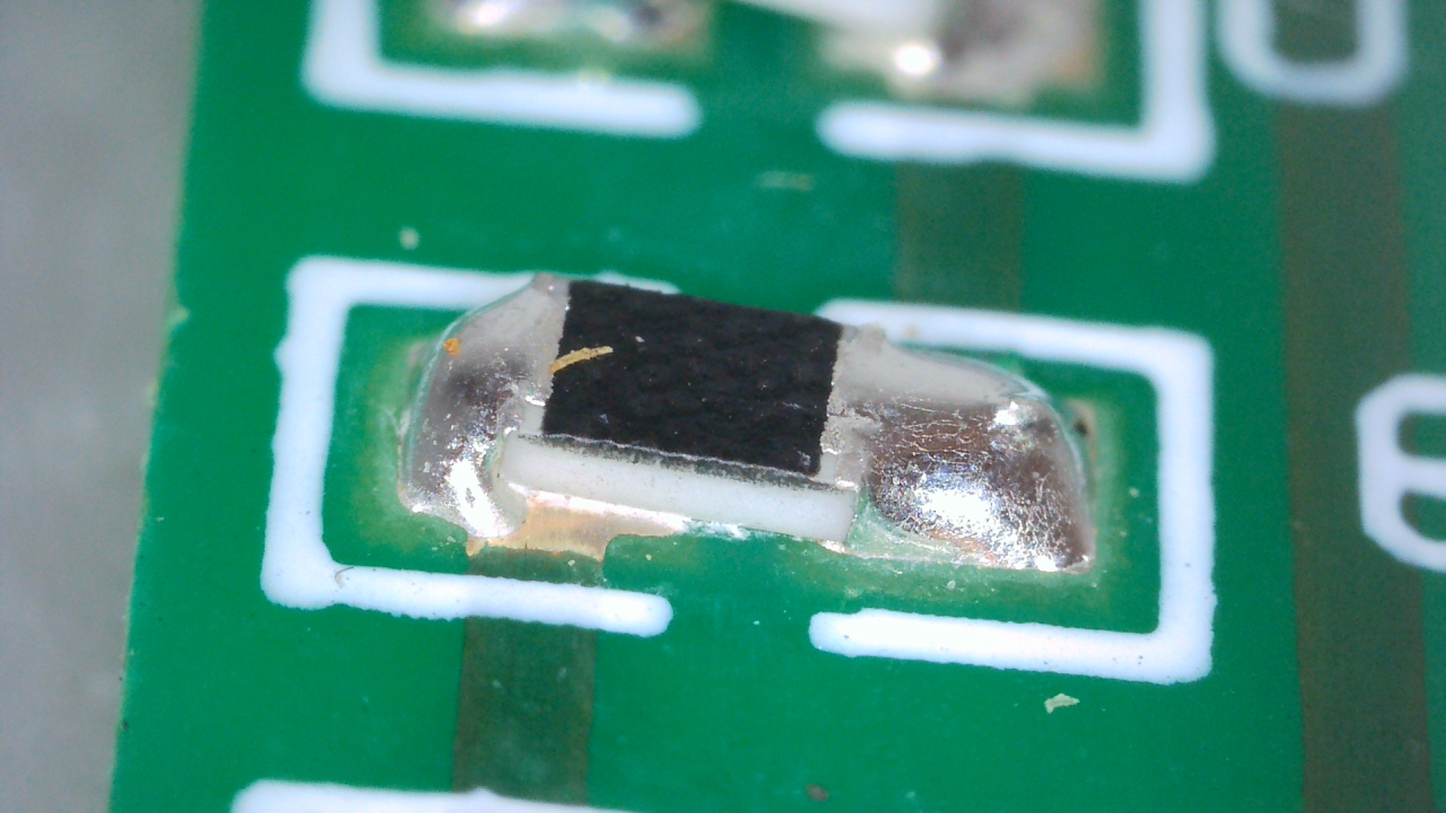NG: (810, 326, 1095, 571), (396, 275, 570, 539)
